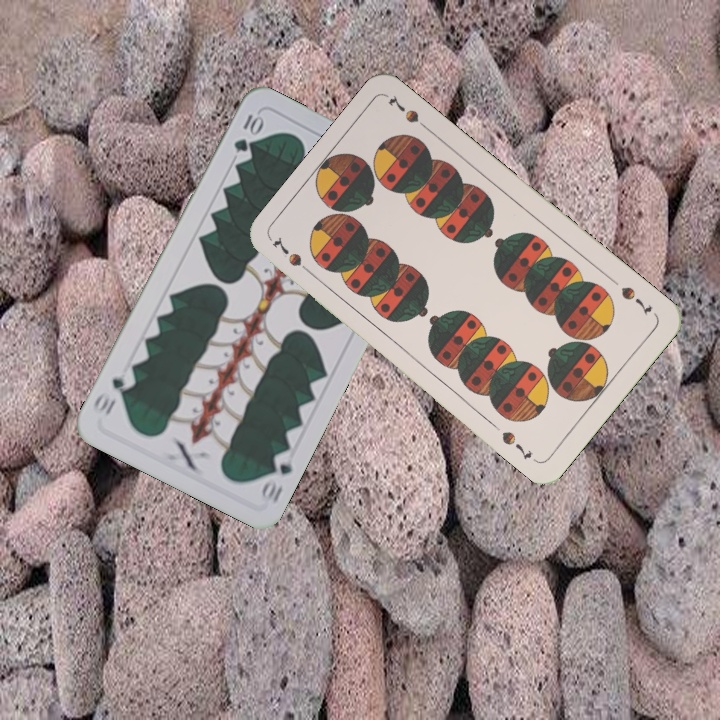G10: (257, 447, 296, 506), (229, 109, 265, 156)
S7: (268, 233, 317, 279), (617, 282, 655, 317)
